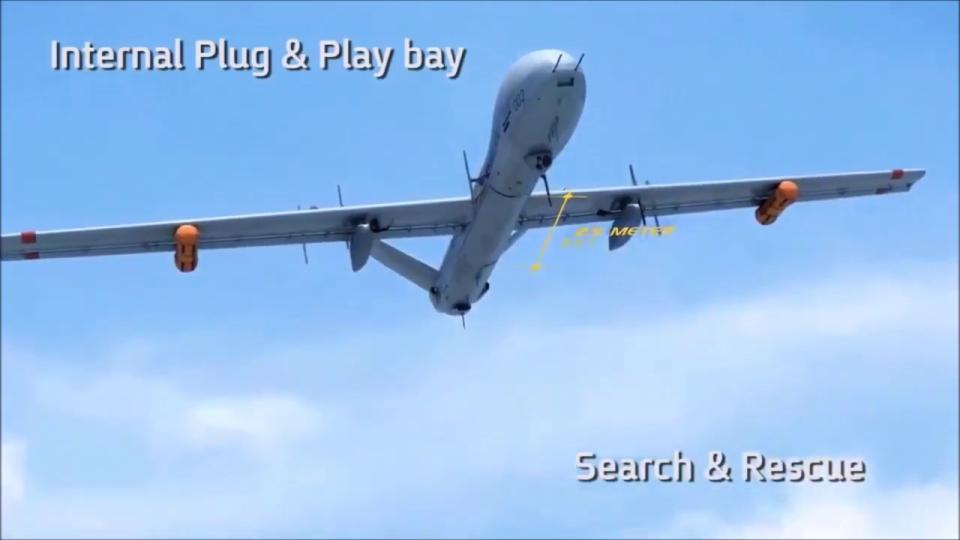military drone: (0, 47, 926, 328)
